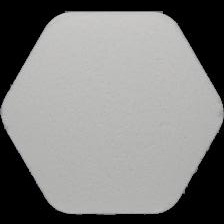66336-608: (0, 0, 224, 224)
